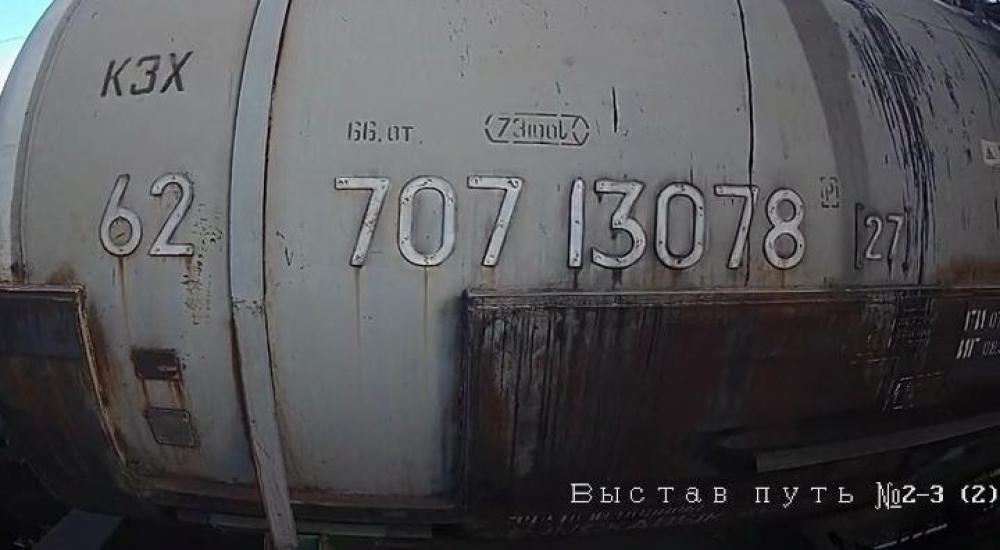Wagon-number: (326, 172, 809, 277)
